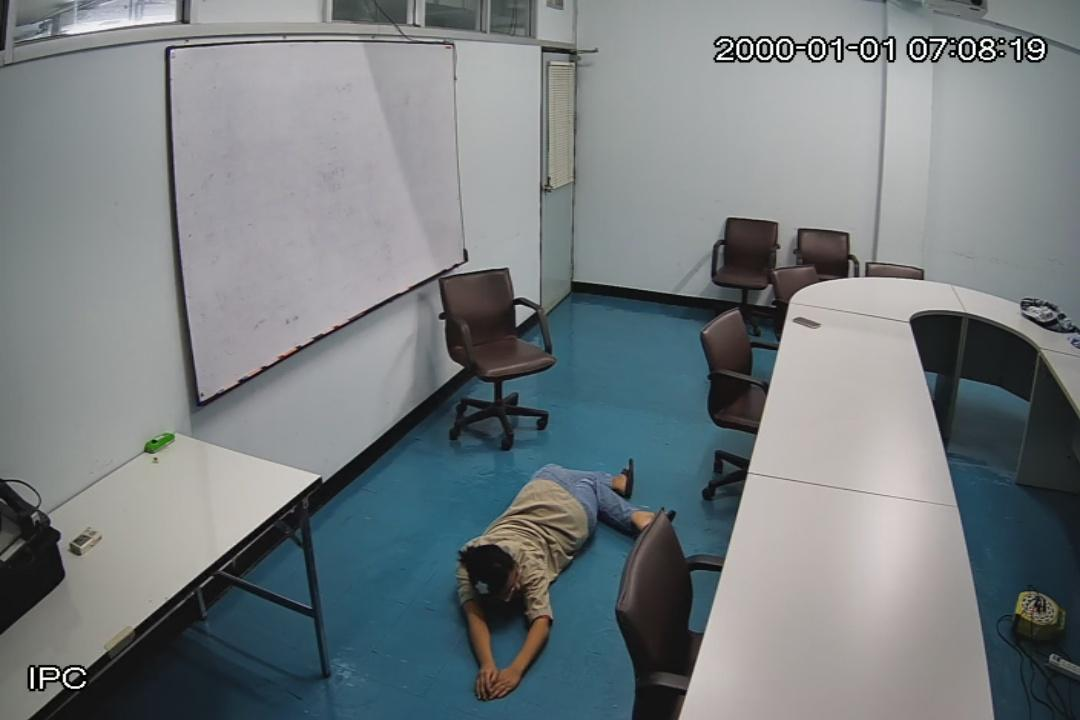fall: (448, 450, 666, 706)
